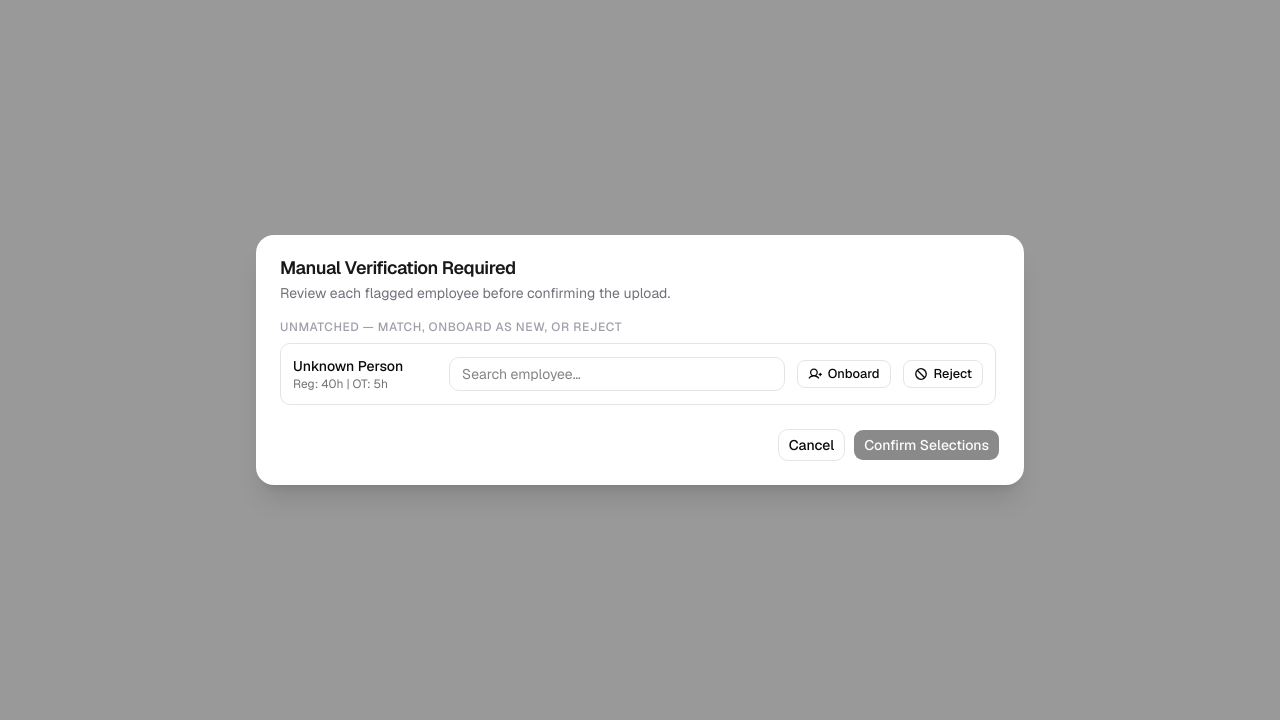
Test: EmployeeVerificationDialog — Unmatched row (Match / Onboard / Reject) › clicking Reject on an unmatched row marks that row as decided
Click the button "Reject" at (943, 374), box [902,360,983,388]
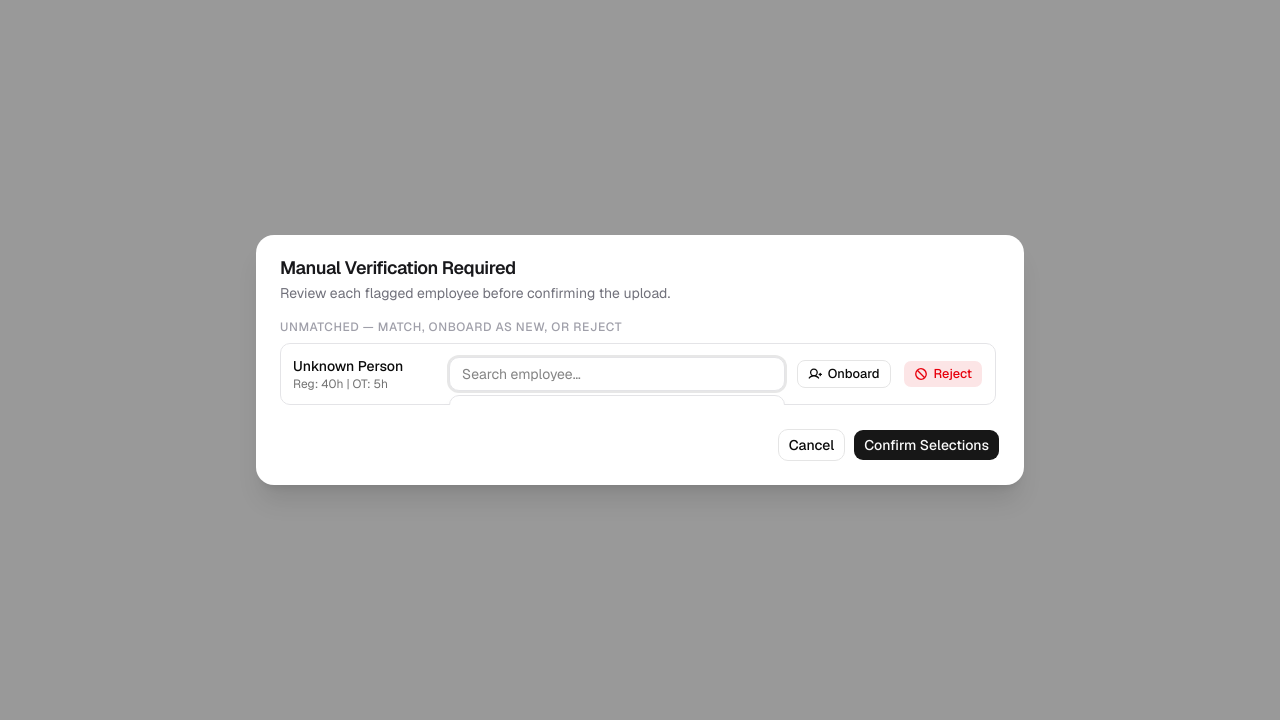
Result: the button "Confirm Selections" is enabled at [853,429,1000,461]
